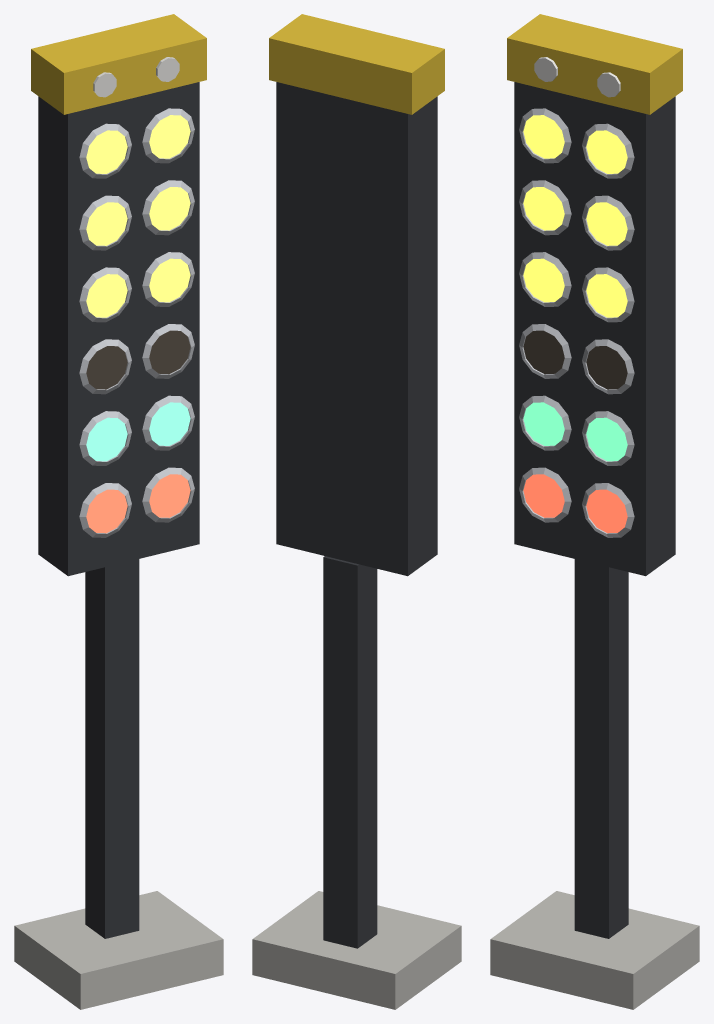
File: start_lights.glb
3 views of the same model, side by side, from view 1: azimuth 30°, elevation 25°; view 2: azimuth 150°, elevation 25°; view 3: azimuth 330°, elevation 25° (orthographic).
Visible parts, largest first — view 1: start_lights; view 2: start_lights; view 3: start_lights.
Part boxes in pixels (x1,y1,x2,y2): start_lights: (14, 14, 223, 1009); start_lights: (252, 14, 461, 1009); start_lights: (490, 14, 699, 1009).
Size of the model in its own units: 0.5 by 3.09 by 0.4.
